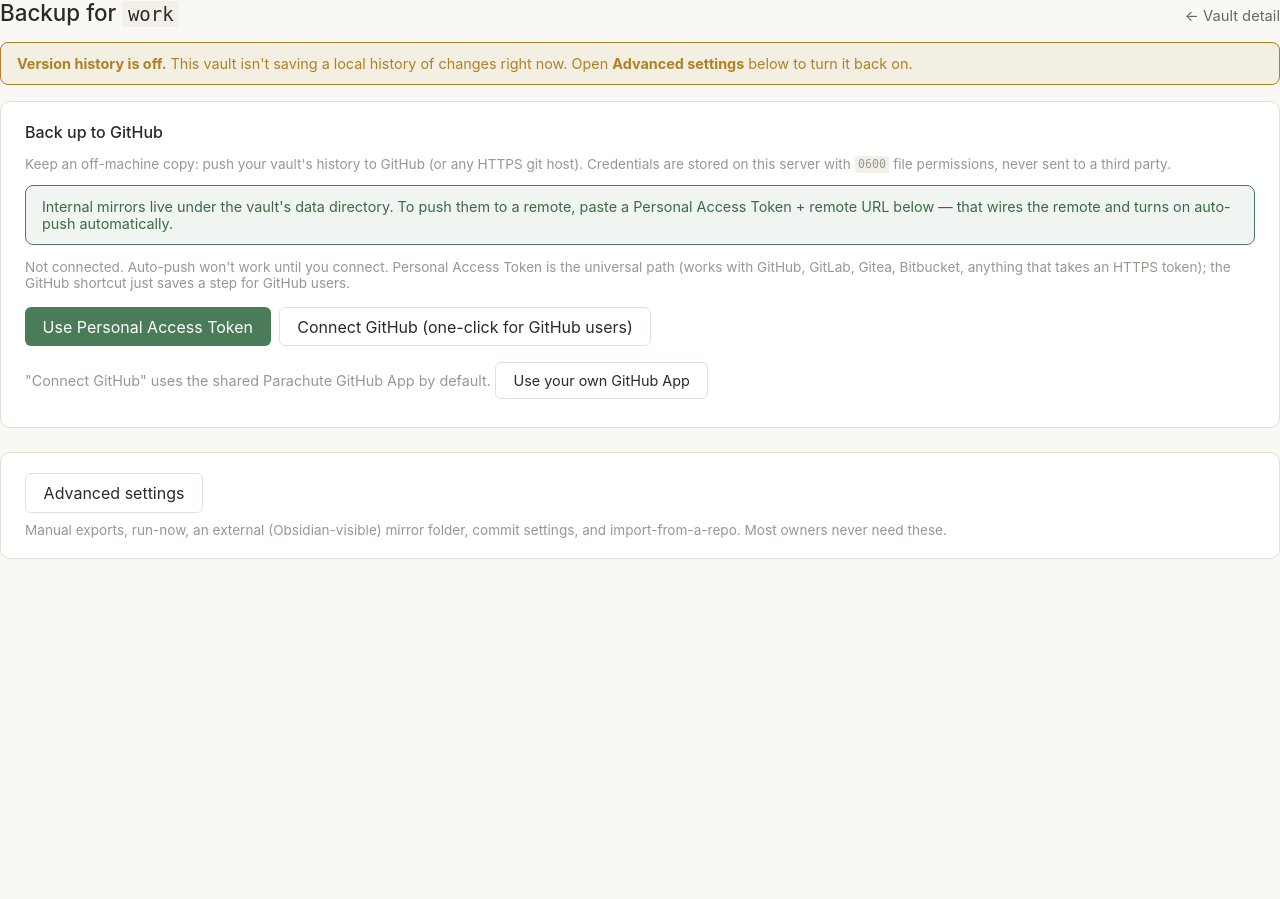
VaultMirror — admin scope › Manual Export preset switches to sync_mode: manual
Click the button "Advanced settings": (114, 493) [25,473,203,513]
(page scrolled)
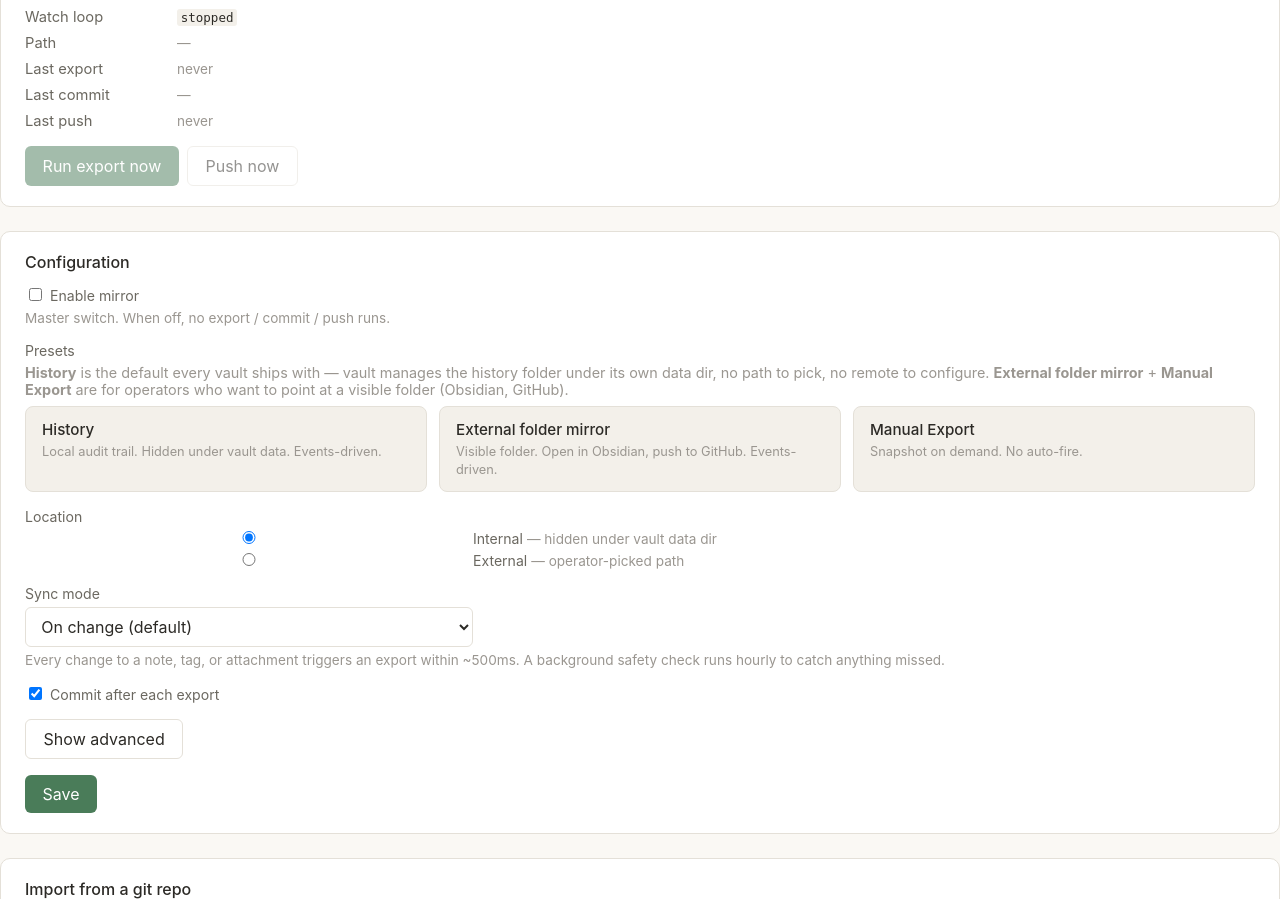
Now the heading "Configuration" is shown, box [25,252,130,272]
Click the button with aria-label "Apply Manual Export preset": (1054, 449) [853,406,1255,492]
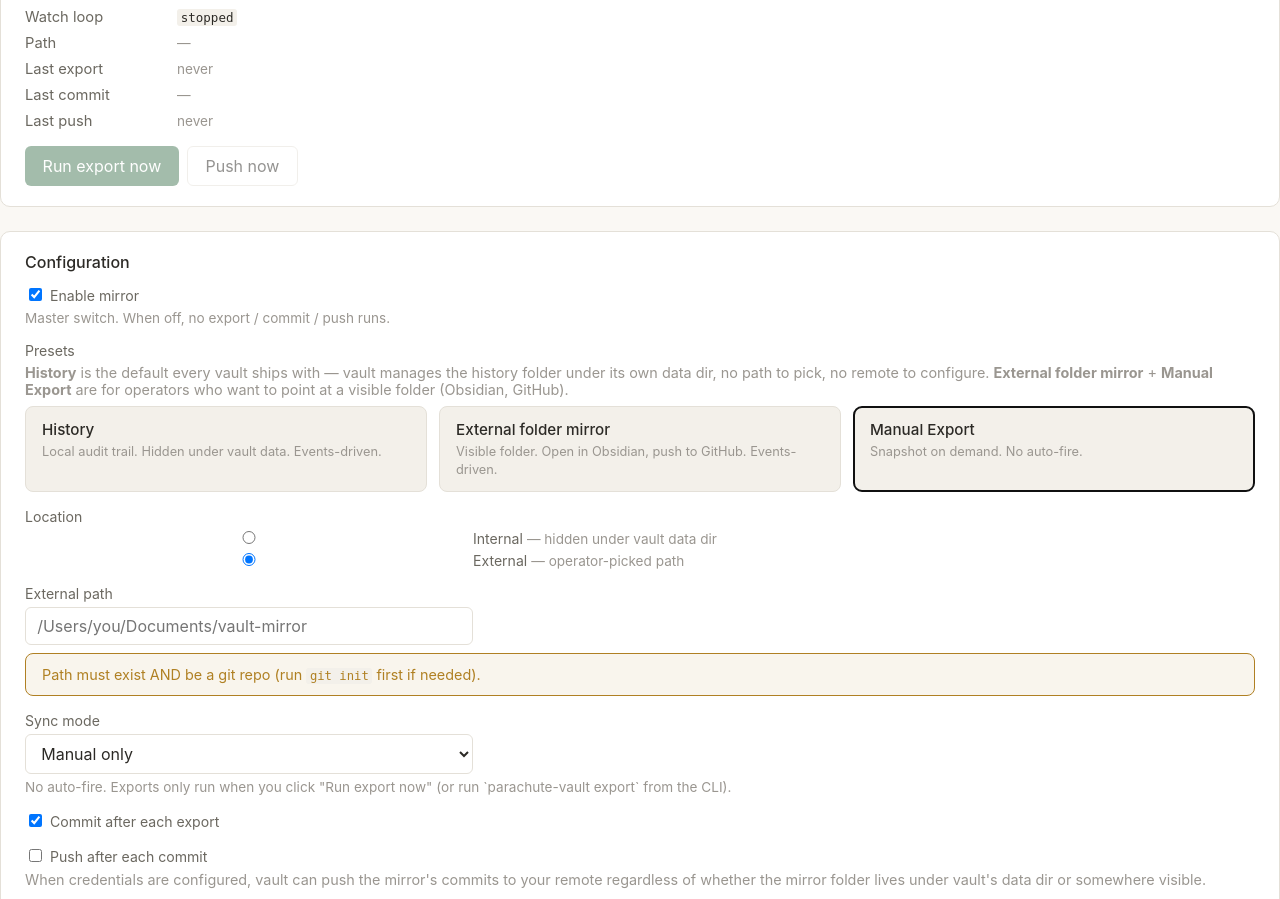
Now the dropdown labelled "Sync mode" shows "Manual only", box [25,734,473,774]
Now the text "No auto-fire. Exports only run when you click" is shown, box [25,779,731,795]
